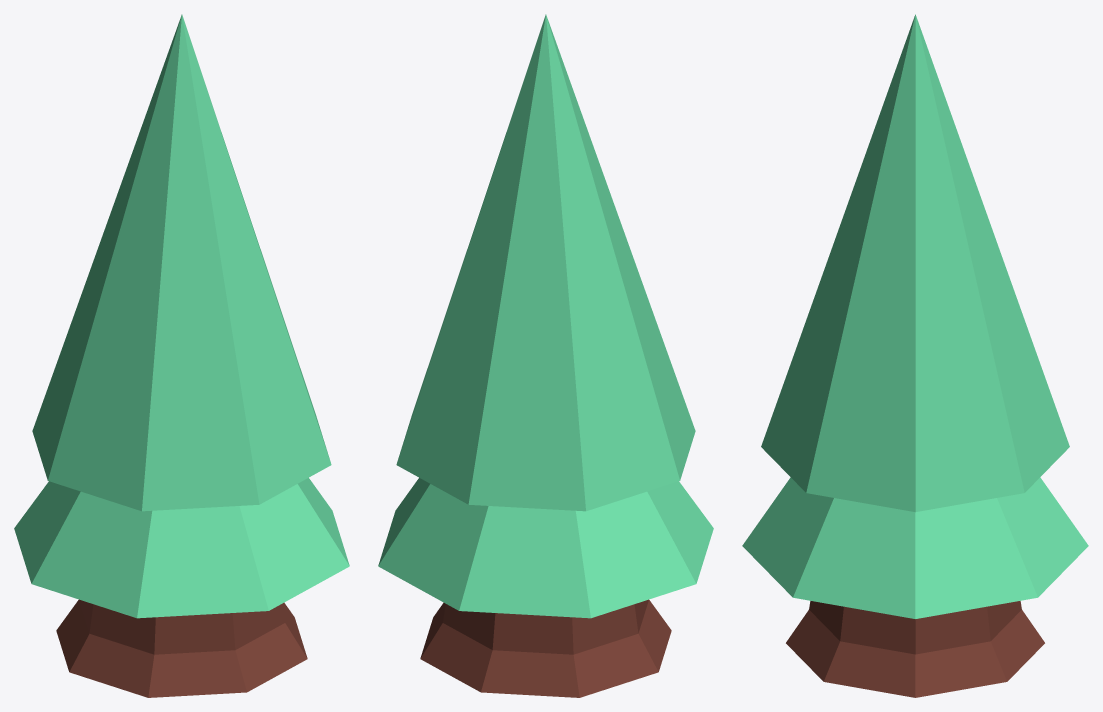
The model's file is Tree.gltf.
3 renders of one model, left to right at view 1: azimuth 30°, elevation 25°; view 2: azimuth 150°, elevation 25°; view 3: azimuth 270°, elevation 25°, orthographic.
Visible parts, largest first — view 1: Tree; view 2: Tree; view 3: Tree.
Boxes of the visible parts, box(x1,y1,x2,y2) form: Tree: box(14, 14, 349, 697); Tree: box(378, 14, 713, 697); Tree: box(742, 14, 1088, 697).
Size of the model in its own units: 9.35 by 18.73 by 9.35.
